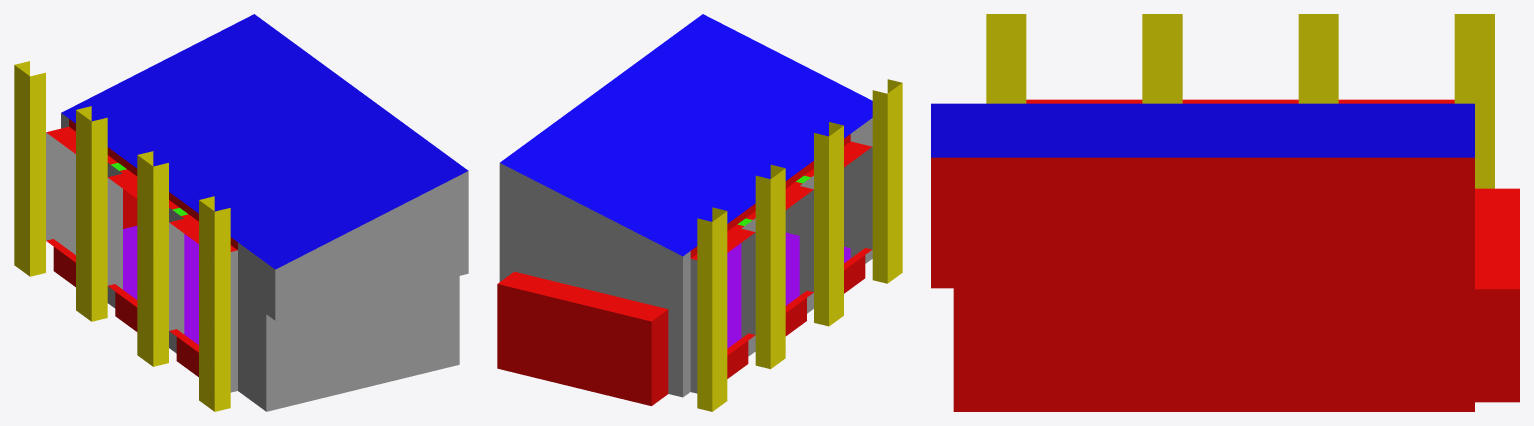
File: Room.FBX
The picture shows the model from 3 angles, left to right: view 1: azimuth 30°, elevation 25°; view 2: azimuth 150°, elevation 25°; view 3: azimuth 270°, elevation 25°; orthographic projection. The views are drawn at different scales.
Visible parts, largest first — view 1: Line044; view 2: Line044; view 3: Line044.
Boxes of the visible parts, x1,y1,x2,y2 form: Line044: (14, 14, 468, 411); Line044: (497, 14, 902, 411); Line044: (931, 14, 1519, 411).
Size of the model in its own units: 605 by 499 by 1046.
